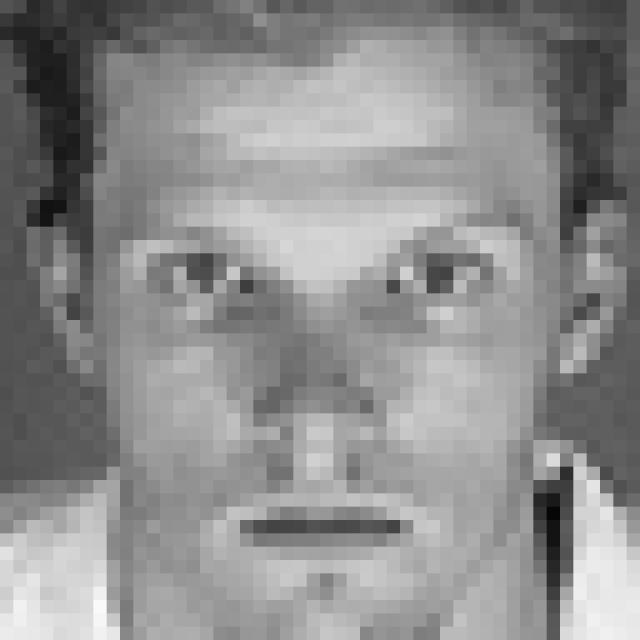neutral: (111, 213, 534, 582)
